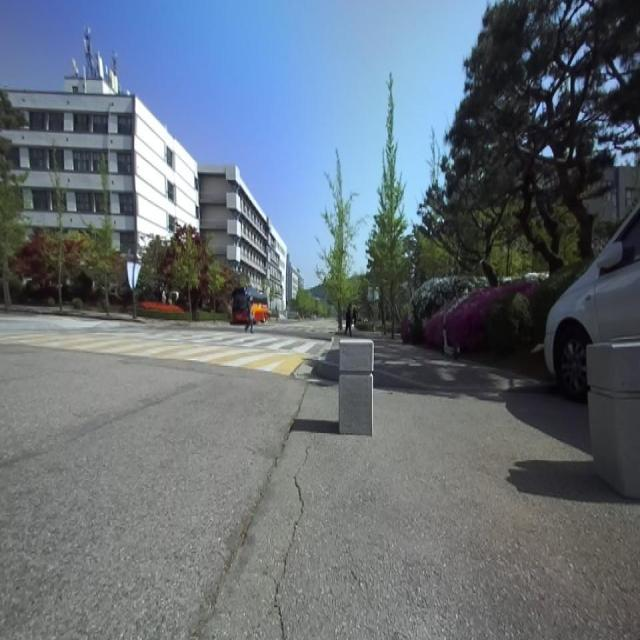sidewalk: (194, 373, 640, 640), (352, 331, 542, 390)
